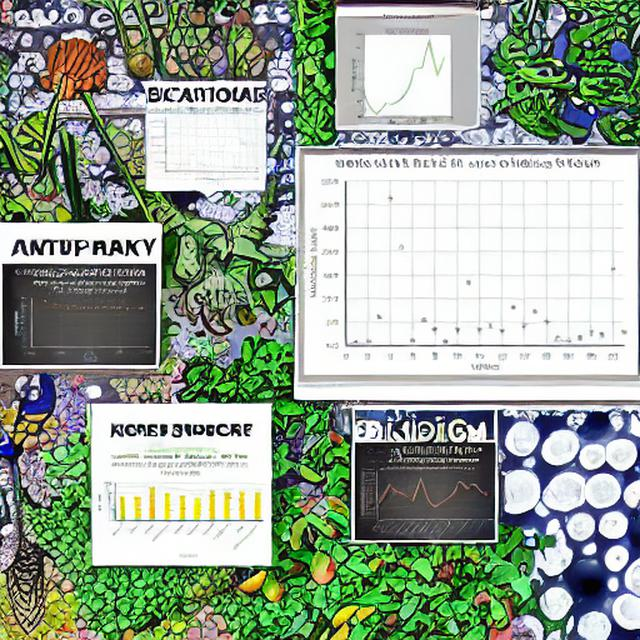Graph: (306, 157, 636, 373), (94, 459, 267, 561), (338, 24, 474, 126), (11, 278, 156, 365), (363, 465, 495, 541), (148, 112, 261, 182)
